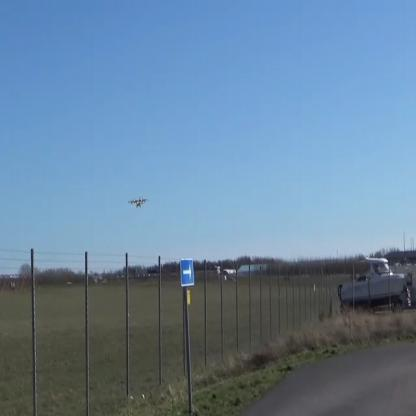CIV_Plane: (128, 194, 152, 209)
